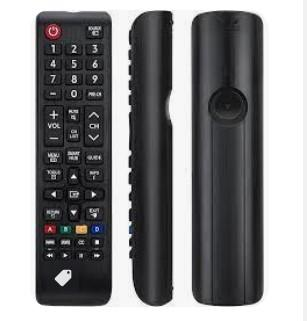Remote control: (34, 12, 113, 307), (190, 11, 263, 308), (128, 11, 175, 308)
